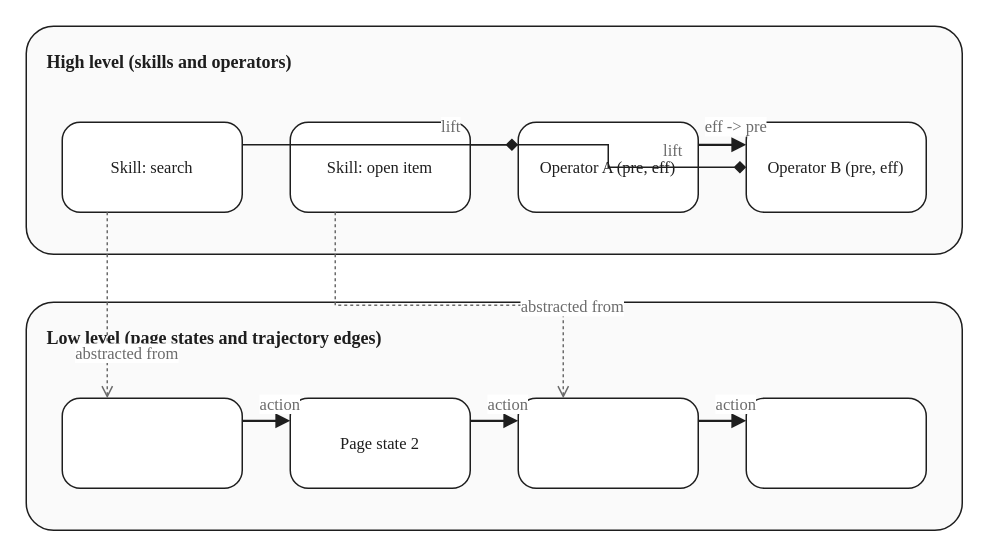
The diagram is 989 pixels wide and 557 high, and some of its shapes have lost their labels. The shapes that lost their labels are listed below. From the top down, each one's centre as x and y in pixels, then its label:
At [151,442]: "Page state 1".
At [607,442]: "Page state 3".
At [835,442]: "Page state 4".
